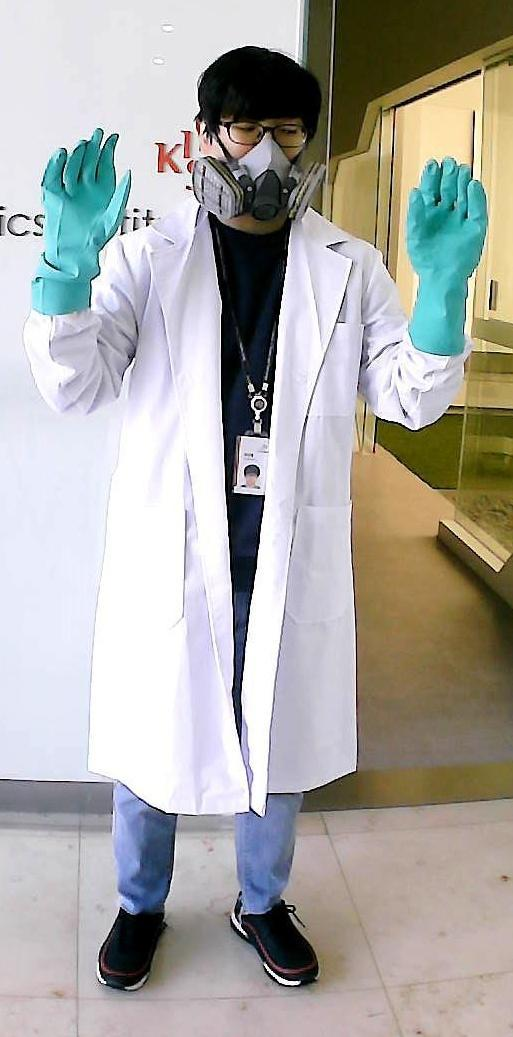lab_coat: (111, 202, 384, 803)
